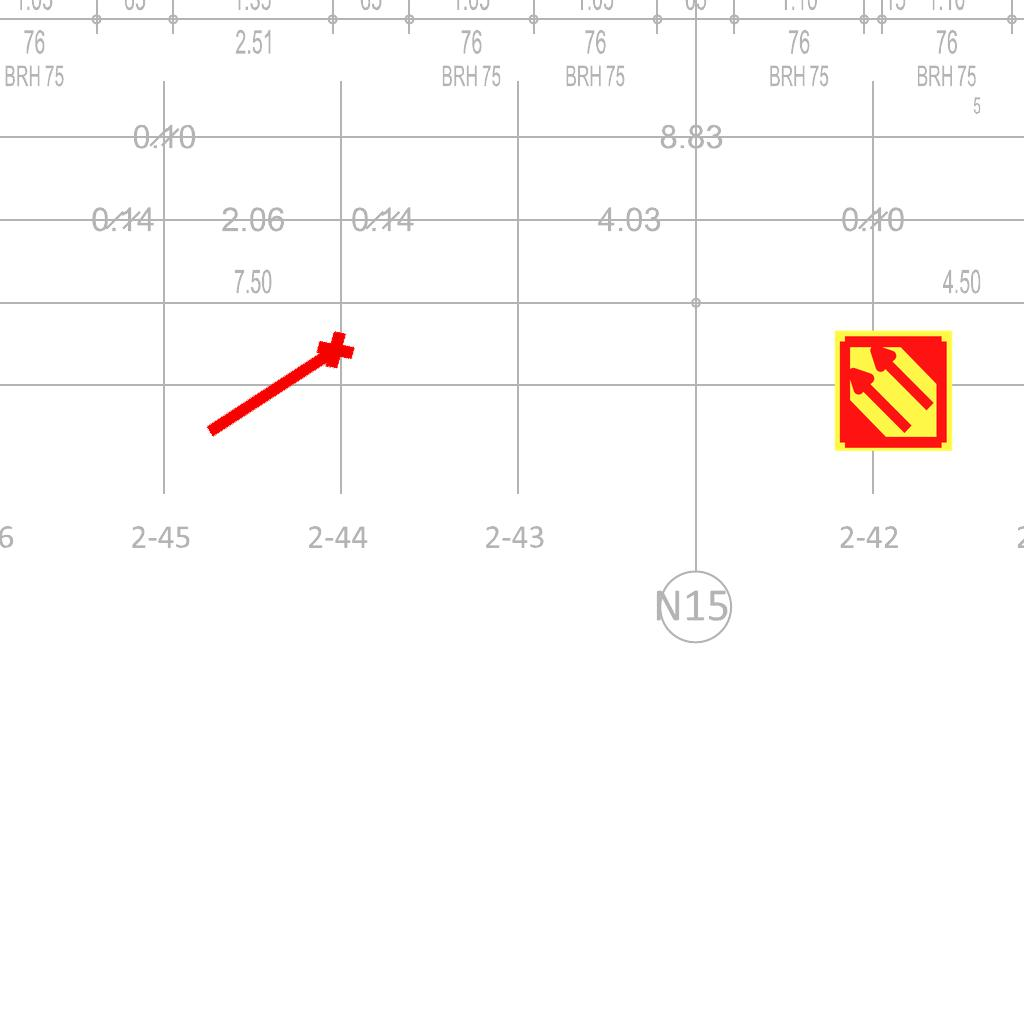ASR_Ansaugoeffnung: (193, 321, 367, 457)
ASR_Ansaugrauchmelder: (831, 328, 956, 453)
